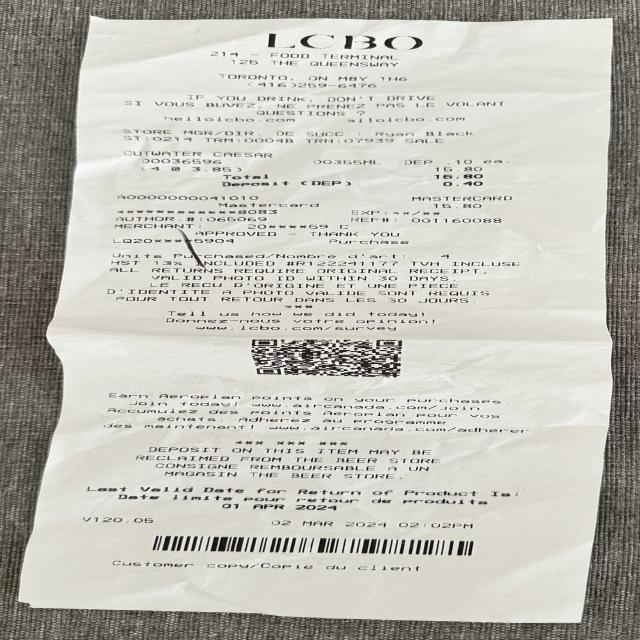item: (114, 148, 518, 174)
store_name: (255, 30, 439, 52)
total_amount: (215, 172, 493, 180)
transaction_date: (262, 518, 398, 529)
